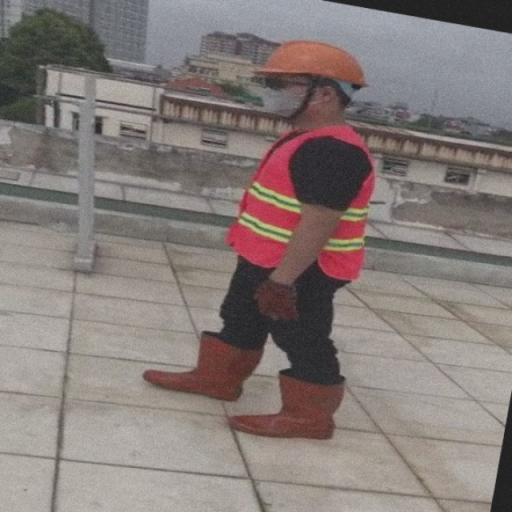Person: (164, 22, 450, 469)
boots: (226, 355, 388, 460), (144, 308, 258, 413)
gloves: (236, 257, 322, 340)
goggles: (246, 70, 354, 106)
helmet: (239, 36, 373, 84)
vest: (220, 122, 407, 288)
